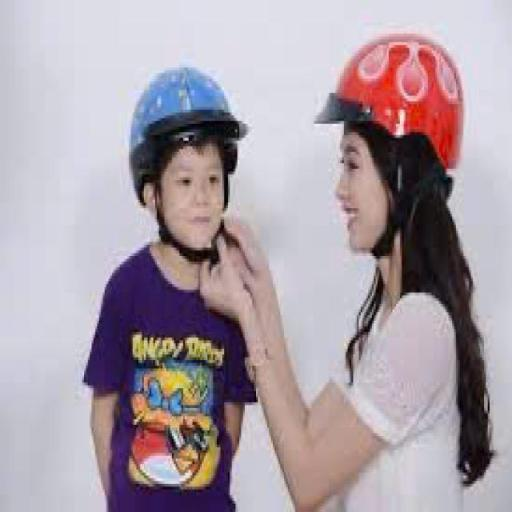with helmet: (311, 30, 466, 173), (128, 60, 248, 182)
